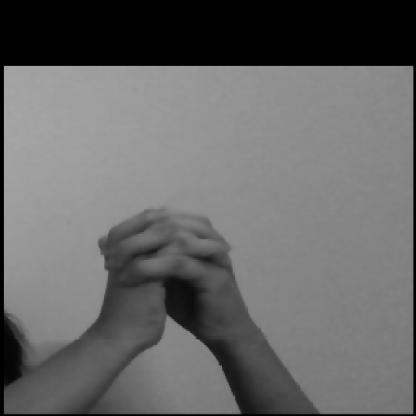prayer: (72, 184, 272, 376)
